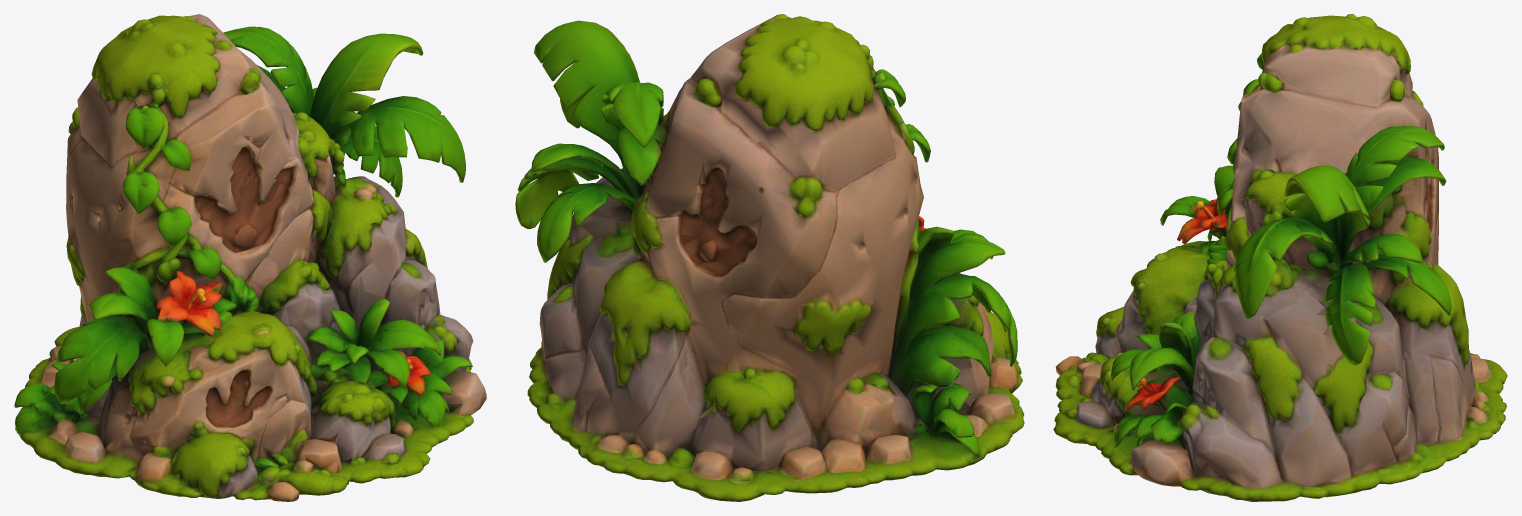
Rendered from rock_footprint.glb.
3 views of the same model, side by side, from view 1: azimuth 30°, elevation 25°; view 2: azimuth 150°, elevation 25°; view 3: azimuth 270°, elevation 25° (orthographic). The views are drawn at different scales.
Parts seen in each view (by area): view 1: rock_footprint; view 2: rock_footprint; view 3: rock_footprint.
Boxes of the visible parts, box(x1,y1,x2,y2) form: rock_footprint: box(14, 14, 486, 501); rock_footprint: box(515, 14, 1024, 501); rock_footprint: box(1053, 14, 1507, 501).
Bounding box in the file's own units: 5.23 × 4.4 × 4.99.
1 material, 1 textured.
